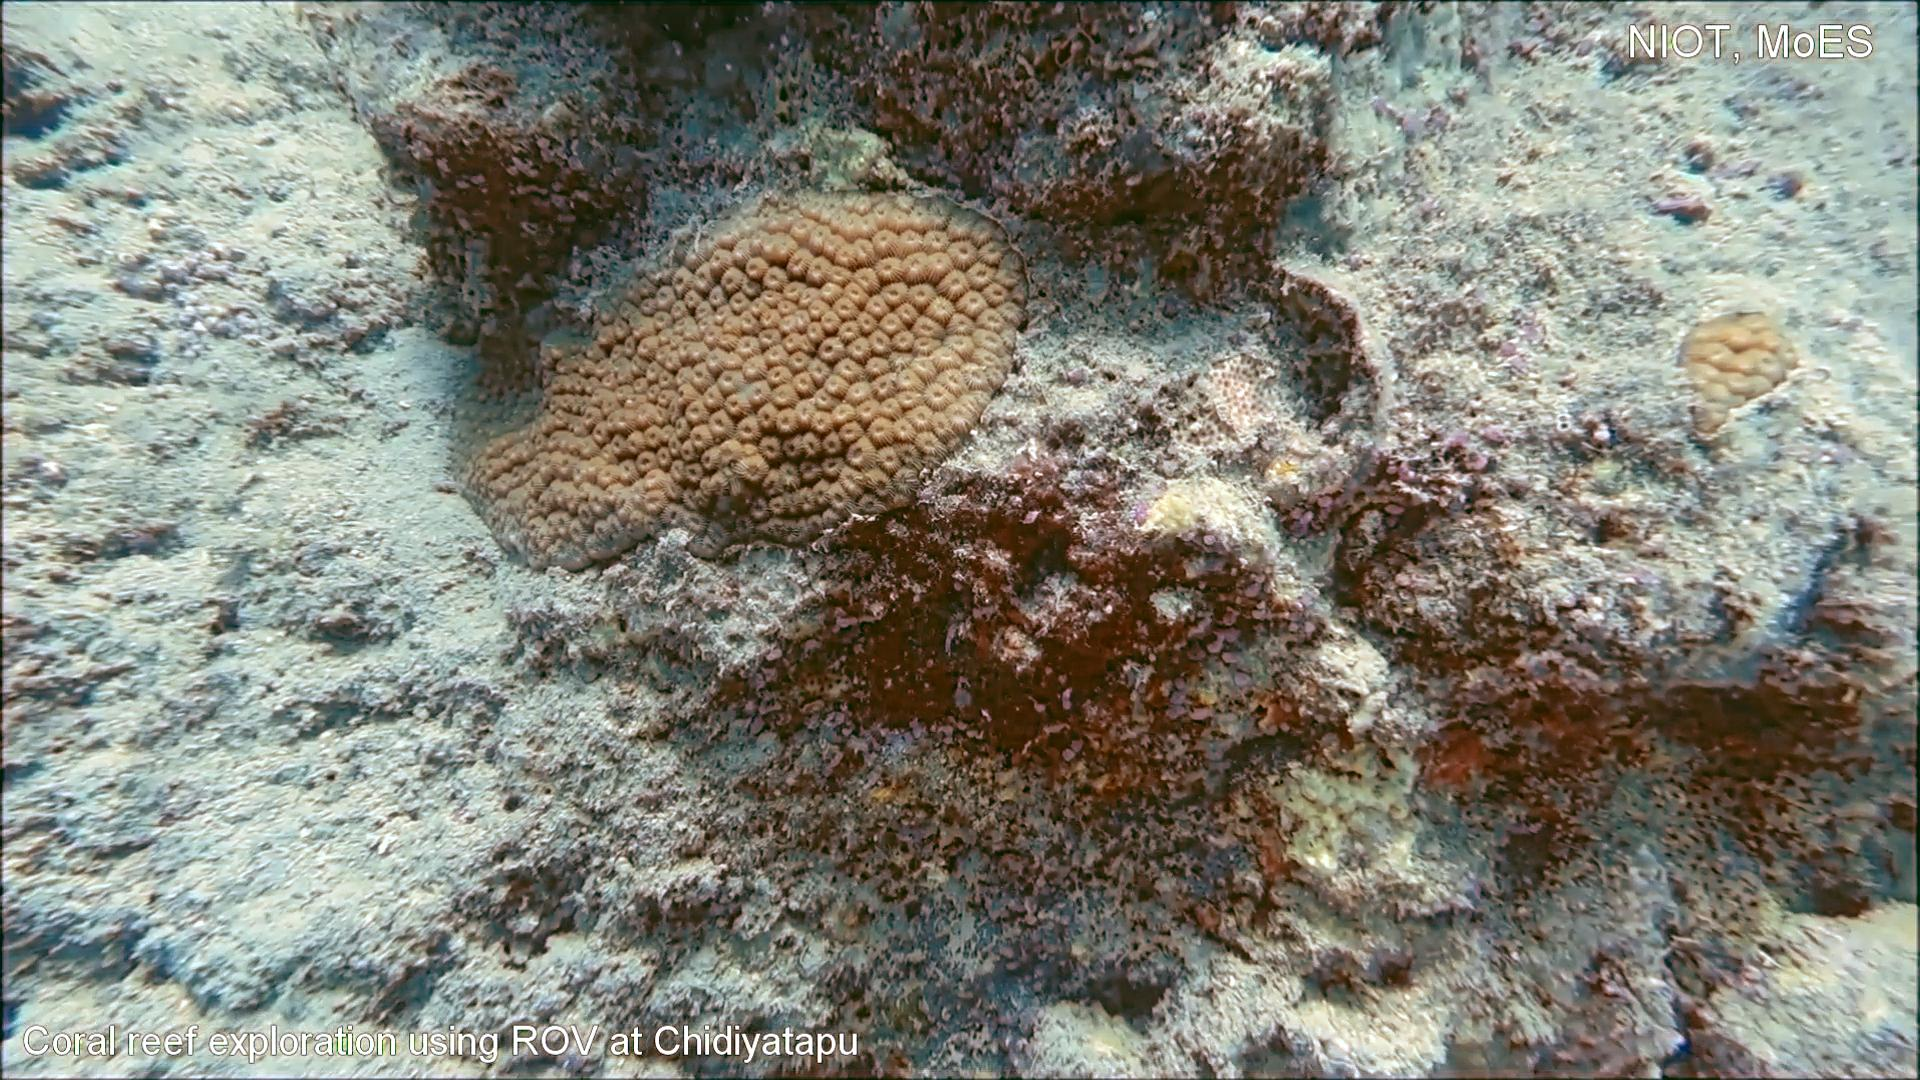Montastraea: (456, 174, 1035, 581), (1670, 298, 1810, 449)
